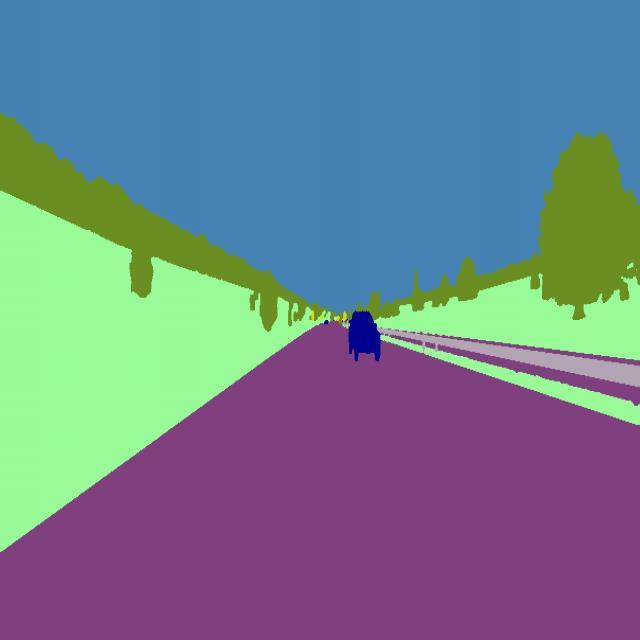safe: (342, 304, 388, 376)
